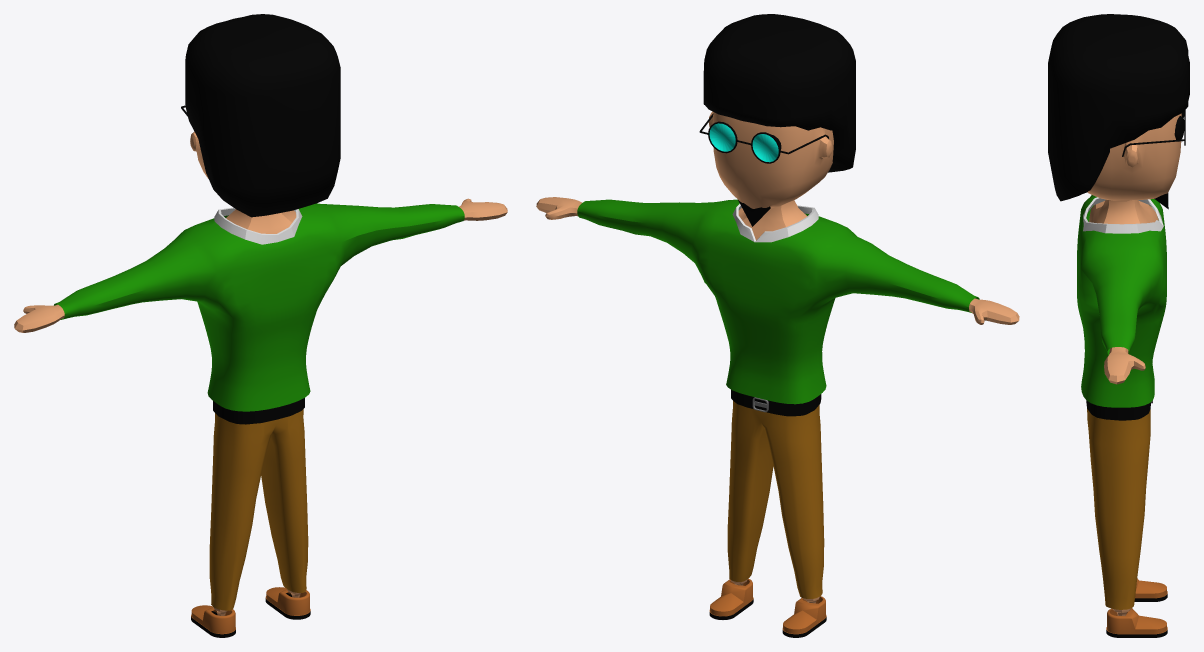
File: Programmer.fbx
3 views of the same model, side by side, from view 1: azimuth 30°, elevation 25°; view 2: azimuth 150°, elevation 25°; view 3: azimuth 270°, elevation 25° (orthographic). The views are drawn at different scales.
Parts seen in each view (by area): view 1: Jumper, Hair, Trousers, Body, Belt, Right_Boot, Left_Boot; view 2: Jumper, Hair, Trousers, Body, Glasses, Left_Boot, Right_Boot, Belt; view 3: Hair, Jumper, Trousers, Body, Left_Boot, Belt, Right_Boot, Glasses.
Boxes of the visible parts, x1,y1,x2,y2 form: Jumper: (54, 203, 464, 411); Hair: (185, 14, 340, 217); Trousers: (209, 409, 308, 610); Body: (14, 131, 507, 615); Belt: (213, 398, 304, 424); Right_Boot: (191, 605, 235, 637); Left_Boot: (265, 587, 310, 619); Jumper: (577, 199, 979, 404); Hair: (703, 14, 855, 172); Trousers: (727, 401, 824, 598); Body: (536, 111, 1019, 603); Glasses: (699, 113, 828, 163); Left_Boot: (709, 578, 753, 619); Right_Boot: (782, 596, 826, 637); Belt: (731, 389, 821, 416); Hair: (1048, 14, 1189, 201); Jumper: (1077, 195, 1166, 407); Trousers: (1087, 409, 1150, 609); Body: (1087, 113, 1181, 615); Left_Boot: (1106, 608, 1167, 637); Belt: (1086, 400, 1150, 420); Right_Boot: (1134, 578, 1167, 601); Glasses: (1122, 110, 1185, 156).
Size of the model in its own units: 164 by 187 by 41.52.
